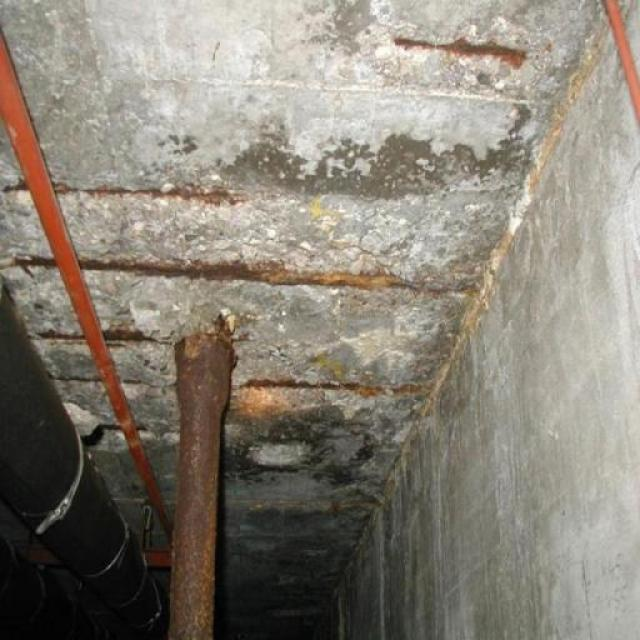D0w0: (0, 20, 540, 454)
